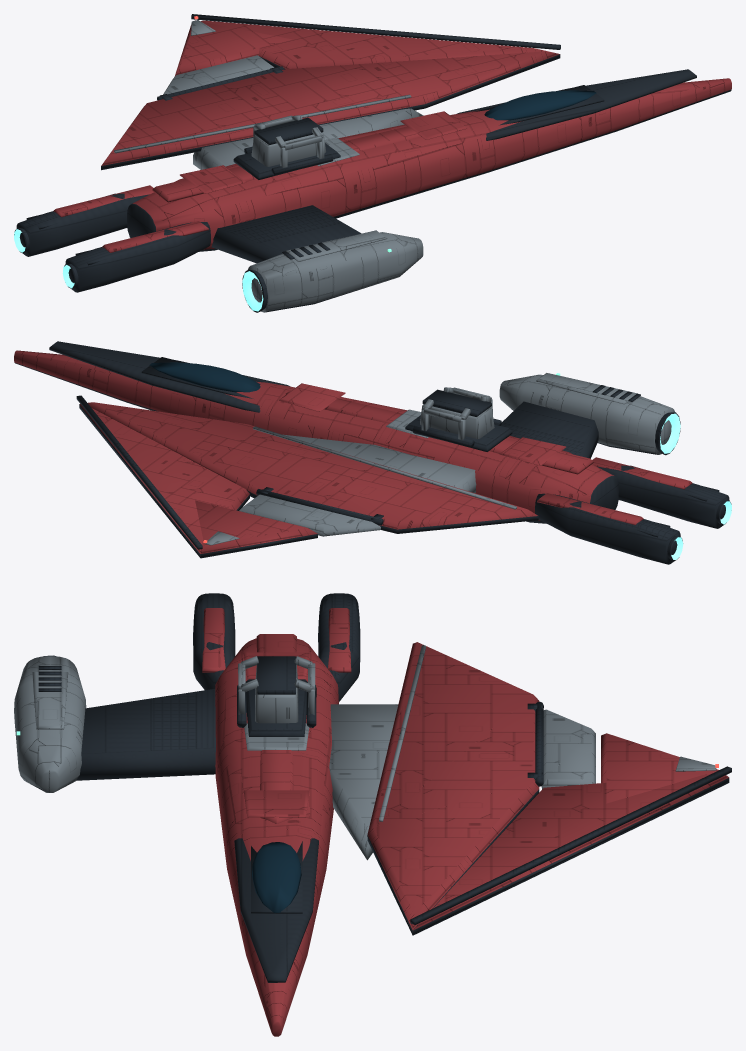
File: red_kite_lod2.glb
3 views of the same model, one above another, from view 1: azimuth 30°, elevation 25°; view 2: azimuth 150°, elevation 25°; view 3: azimuth 270°, elevation 25° (orthographic). The views are drawn at different scales.
Visible parts, largest first — view 1: LOD2_Hull, LOD2_MechanicalDark, LOD2_Armor, LOD2_CANOPY, LOD2_MOTION_RED_KITE_FLAP_Armor, LOD2_HOOK_DRIVE_CORE, LOD2_MOTION_RED_KITE_CLAMP_STARBOARD_Armor; view 2: LOD2_Hull, LOD2_MechanicalDark, LOD2_Armor, LOD2_MOTION_RED_KITE_FLAP_Armor, LOD2_CANOPY, LOD2_HOOK_DRIVE_CORE, LOD2_MOTION_RED_KITE_CLAMP_PORT_Armor; view 3: LOD2_Hull, LOD2_MechanicalDark, LOD2_Armor, LOD2_MOTION_RED_KITE_FLAP_Armor, LOD2_CANOPY.
Part boxes in pixels (x1=…): LOD2_Hull: x1=53, y1=20, x2=731, y2=252; LOD2_MechanicalDark: x1=14, y1=14, x2=731, y2=312; LOD2_Armor: x1=114, y1=20, x2=423, y2=312; LOD2_CANOPY: x1=484, y1=90, x2=596, y2=120; LOD2_MOTION_RED_KITE_FLAP_Armor: x1=163, y1=55, x2=273, y2=94; LOD2_HOOK_DRIVE_CORE: x1=14, y1=229, x2=263, y2=311; LOD2_MOTION_RED_KITE_CLAMP_STARBOARD_Armor: x1=275, y1=127, x2=324, y2=167; LOD2_Hull: x1=14, y1=350, x2=692, y2=553; LOD2_MechanicalDark: x1=14, y1=341, x2=731, y2=564; LOD2_Armor: x1=204, y1=373, x2=674, y2=545; LOD2_MOTION_RED_KITE_FLAP_Armor: x1=239, y1=494, x2=380, y2=536; LOD2_CANOPY: x1=149, y1=362, x2=260, y2=392; LOD2_HOOK_DRIVE_CORE: x1=660, y1=413, x2=731, y2=559; LOD2_MOTION_RED_KITE_CLAMP_PORT_Armor: x1=421, y1=399, x2=470, y2=439; LOD2_Hull: x1=202, y1=608, x2=728, y2=1036; LOD2_MechanicalDark: x1=30, y1=593, x2=731, y2=982; LOD2_Armor: x1=14, y1=645, x2=716, y2=860; LOD2_MOTION_RED_KITE_FLAP_Armor: x1=541, y1=709, x2=595, y2=789; LOD2_CANOPY: x1=252, y1=842, x2=301, y2=913.
Size of what is drawn, in the model's own units: 22.37 by 2.89 by 15.85.
Materials: 7 (3 with a texture image).
